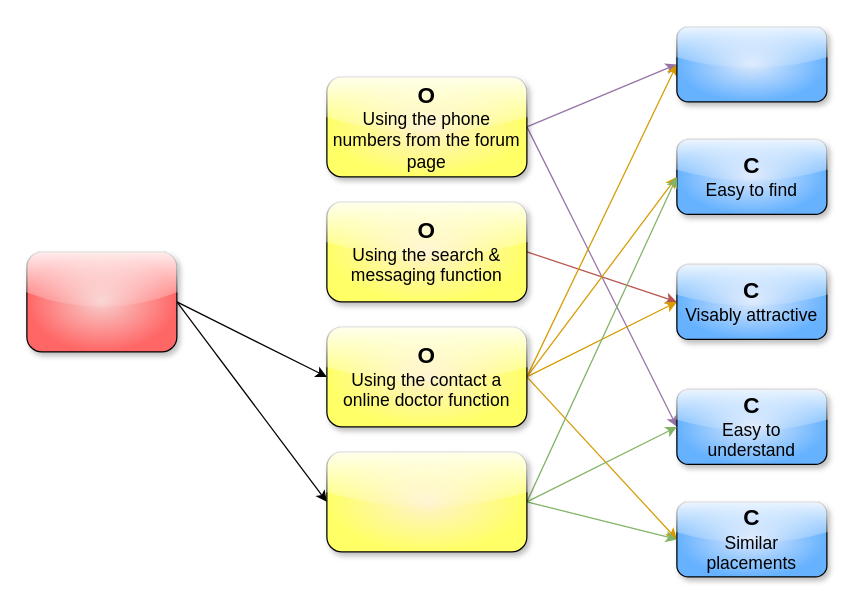
Some shapes in this 856 by 608 pixel diagram are drawn without their labels. The centre of each missing label's shape, as x and y in pixels:
C Easy to use: [752,66]
O Going to a physical medical center: [427,503]
Q How to contact a medical professional ?: [102,303]
